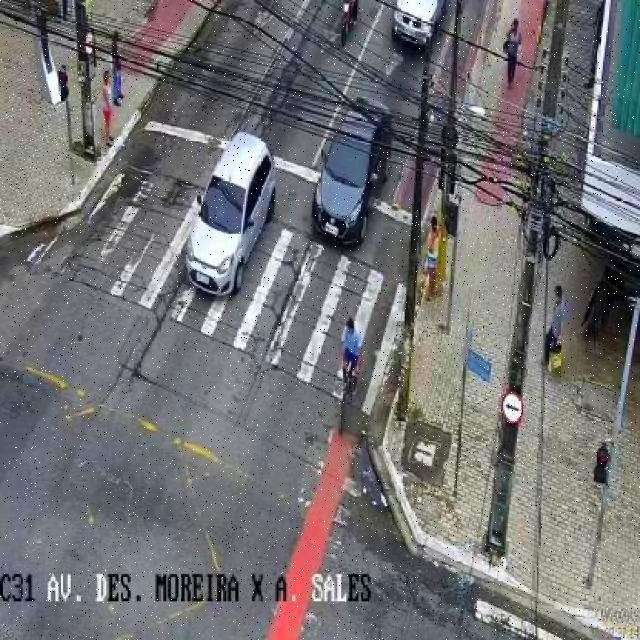Car: (184, 130, 278, 297), (312, 95, 393, 245), (392, 0, 451, 49)
Cycle: (338, 1, 361, 45)
